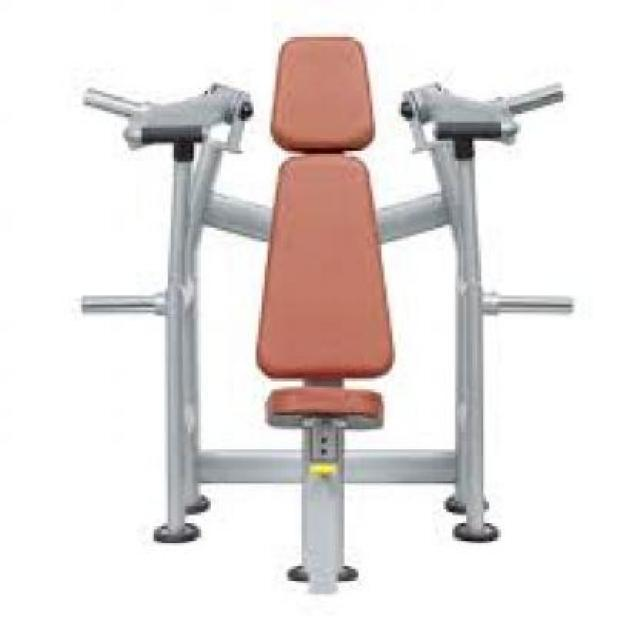shoulder press machine: (69, 21, 591, 612)
